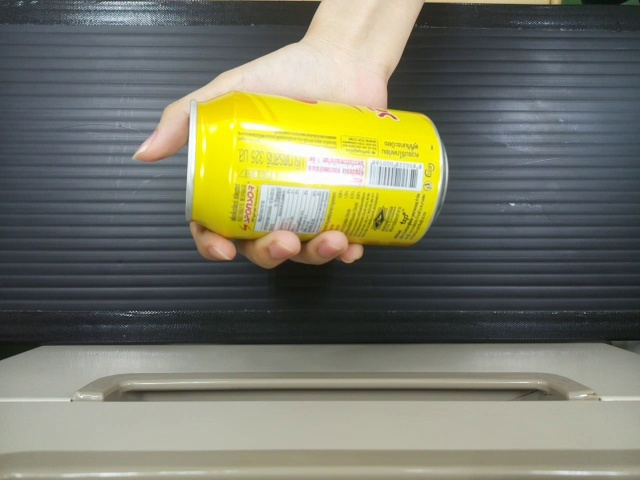can: (185, 90, 444, 233)
